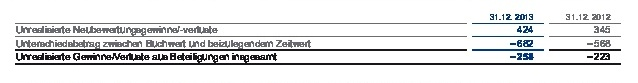table: (0, 0, 638, 83)
